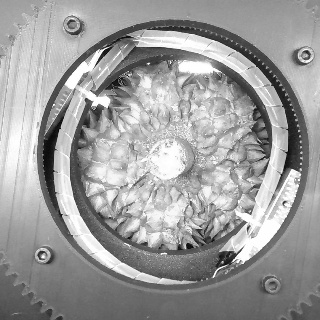base: (145, 123, 207, 170)
end: (147, 138, 187, 181)
